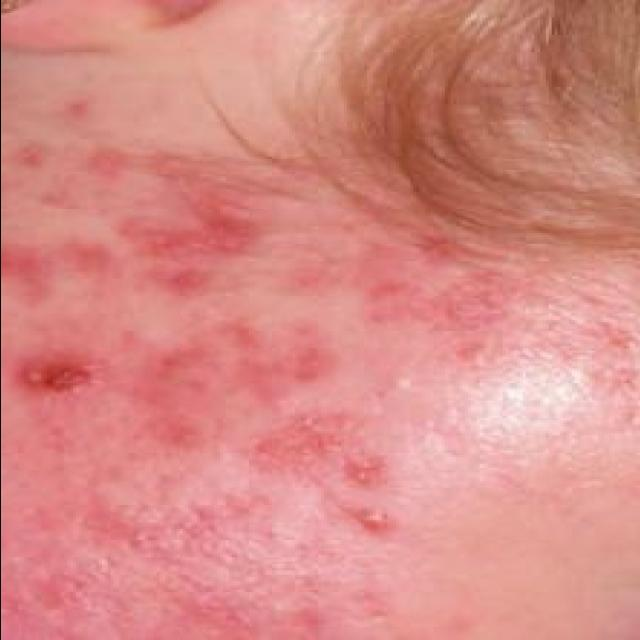Acne: (138, 319, 332, 413), (244, 408, 392, 488), (115, 217, 265, 294), (0, 235, 113, 304), (8, 345, 113, 405), (432, 266, 512, 334), (360, 270, 420, 334), (83, 144, 129, 184), (348, 502, 402, 536)
